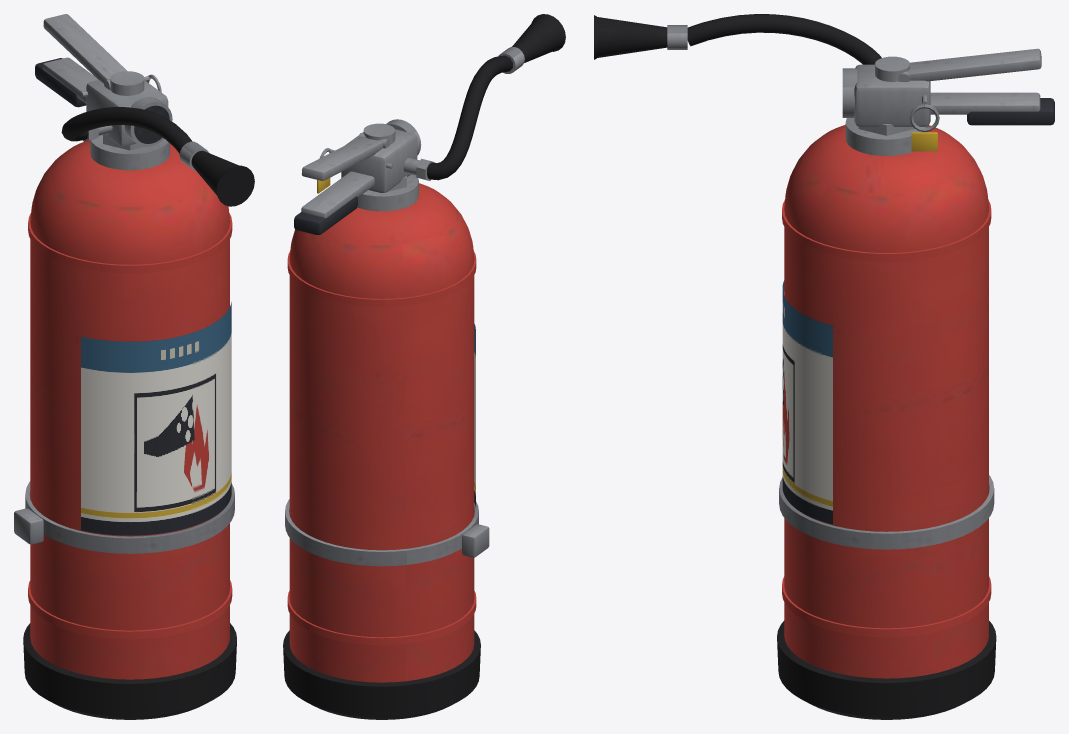
The model's file is fire_extinguisher_held.glb.
The picture shows the model from 3 angles, left to right: view 1: azimuth 30°, elevation 25°; view 2: azimuth 150°, elevation 25°; view 3: azimuth 270°, elevation 25°; orthographic projection. The views are drawn at different scales.
Visible parts, largest first — view 1: FireExtinguisherHeldBody; view 2: FireExtinguisherHeldBody; view 3: FireExtinguisherHeldBody.
Part boxes in pixels (box(x1,y1,x2,y2)): FireExtinguisherHeldBody: box(14, 14, 254, 719); FireExtinguisherHeldBody: box(283, 14, 565, 719); FireExtinguisherHeldBody: box(594, 14, 1054, 719).
Size of the model in its own units: 0.163 by 0.4855 by 0.315.
Materials: 8 (7 with a texture image).
